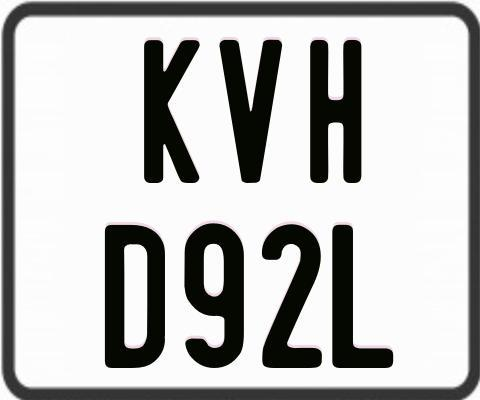2: (259, 222, 325, 371)
9: (182, 221, 246, 372)
D: (104, 225, 170, 372)
H: (309, 37, 366, 186)
K: (142, 37, 203, 182)
L: (330, 225, 394, 373)
V: (219, 37, 284, 184)
